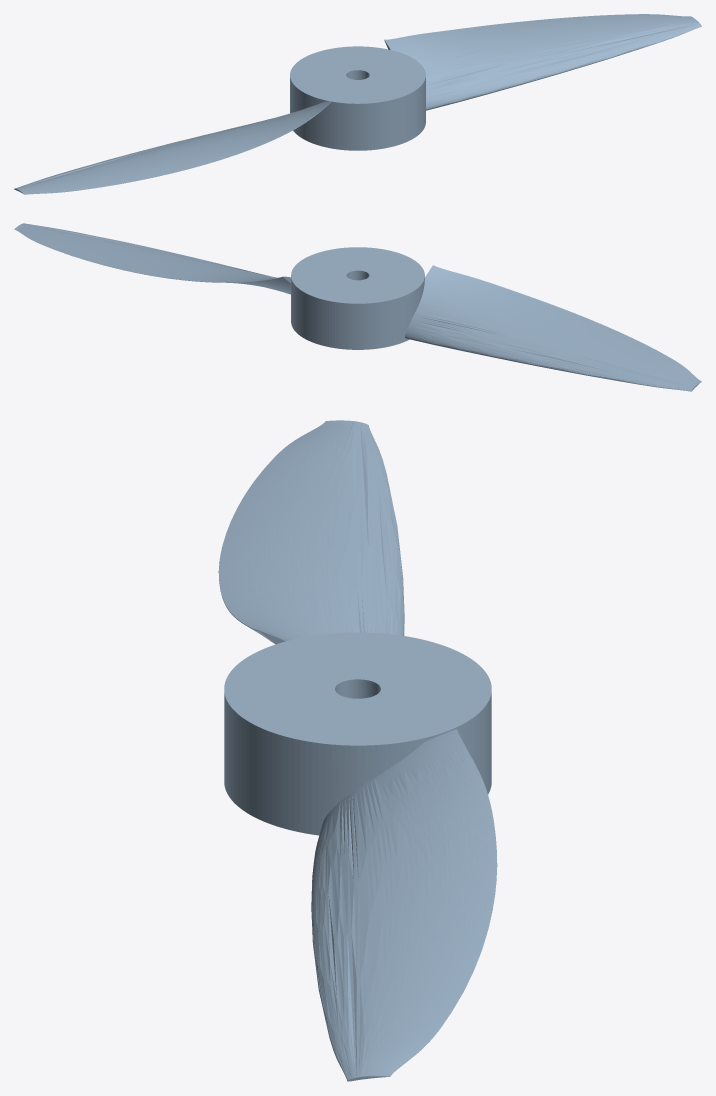
Rendered from 8in-oversized.glb.
The picture shows the model from 3 angles, top to bottom: view 1: azimuth 30°, elevation 25°; view 2: azimuth 150°, elevation 25°; view 3: azimuth 270°, elevation 25°; orthographic projection. The views are drawn at different scales.
Parts seen in each view (by area): view 1: 8in-oversized.stl; view 2: 8in-oversized.stl; view 3: 8in-oversized.stl.
Part boxes in pixels (box(x1,y1,x2,y2)): 8in-oversized.stl: box(14, 14, 701, 194); 8in-oversized.stl: box(14, 223, 701, 391); 8in-oversized.stl: box(218, 420, 497, 1081).
Size of the model in its own units: 0.2032 by 0.0147 by 0.0365.
